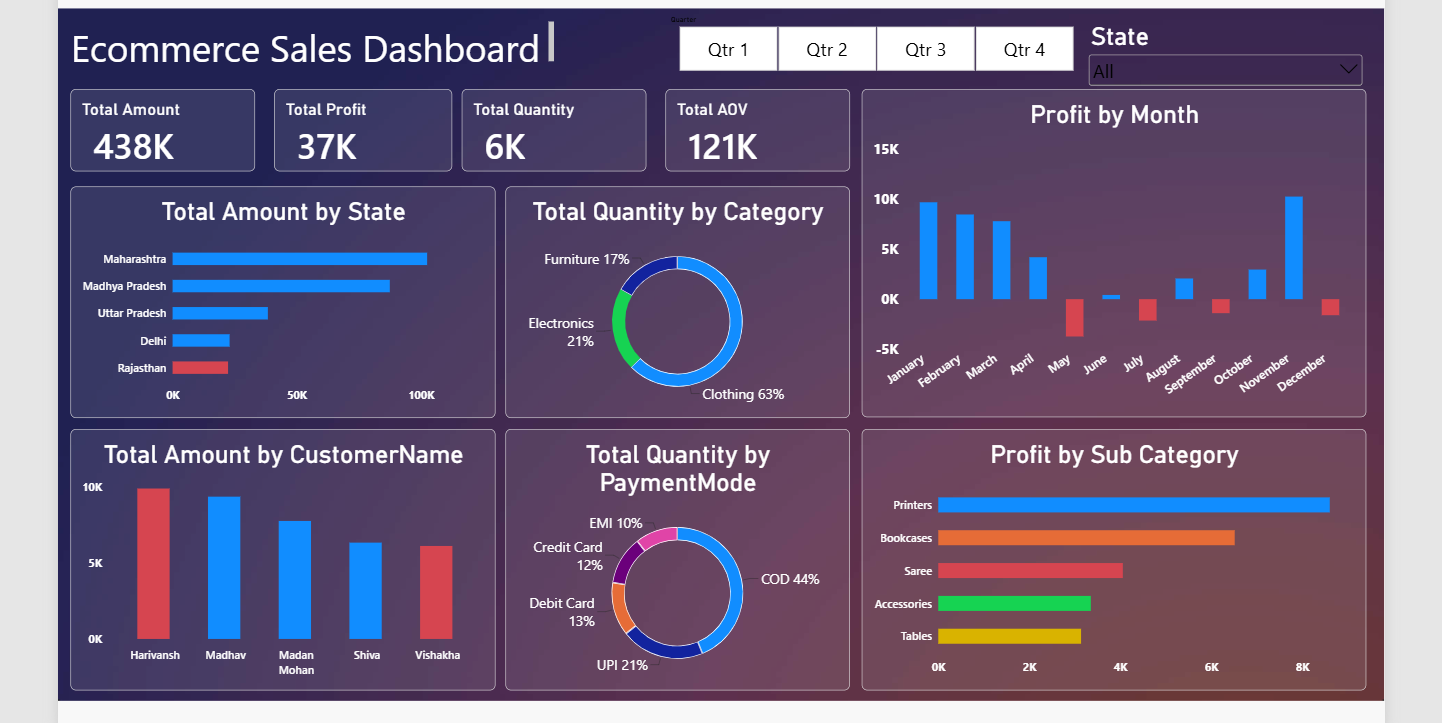

The dashboard page shown, as its layout file describes it:
{"tool":"powerbi","page":{"name":"Page 1","canvas":[1920,1080],"ordinal":0},"visuals":[{"type":"columnChart","title":" Profit by Month","fields":{"Category":["Orders.Order Date.Variation.Date Hierarchy.Month"],"Y":["Sum(Details.Profit)"]},"box":[1163,152.3,730.7,475.5],"z":0},{"type":"textbox","box":[18.5,53.5,699.8,63.8],"z":1000},{"type":"barChart","title":" Profit by Sub Category","fields":{"Category":["Details.Sub-Category"],"Y":["Sum(Details.Profit)"]},"box":[1163,644.3,730.7,378.7],"z":2000},{"type":"donutChart","title":"Total Quantity by Category","fields":{"Category":["Details.Category"],"Y":["Sum(Details.Quantity)"]},"box":[648.4,292.3,498.1,335.5],"z":3000},{"type":"donutChart","title":"Total Quantity by PaymentMode","fields":{"Category":["Details.PaymentMode"],"Y":["Sum(Details.Quantity)"]},"box":[648.4,644.3,498.1,378.7],"z":4000},{"type":"cardVisual","title":"Total Amount","fields":{"Data":["Sum(Details.Amount)"]},"box":[18.5,152.3,267.6,119.4],"z":5000},{"type":"cardVisual","title":"Total Profit","fields":{"Data":["Sum(Details.Profit)"]},"box":[312.9,152.3,257.3,119.4],"z":6000},{"type":"cardVisual","title":"Total Quantity","fields":{"Data":["Sum(Details.Quantity)"]},"box":[584.6,152.3,267,119.4],"z":7000},{"type":"cardVisual","title":"Total AOV","fields":{"Data":["Sum(Details.AOV)"]},"box":[878.9,152.3,267,119.4],"z":8000},{"type":"barChart","title":"Total Amount by State","fields":{"Category":["Orders.State"],"Y":["Sum(Details.Amount)"]},"box":[18.5,292.3,615.4,335.5],"z":9000},{"type":"columnChart","title":"Total Amount by CustomerName","fields":{"Category":["Orders.CustomerName"],"Y":["Sum(Details.Amount)"]},"box":[18.5,644.3,615.4,378.7],"z":10000},{"type":"slicer","fields":{"Values":["Orders.Order Date.Variation.Date Hierarchy.Quarter"]},"box":[878.9,45.3,609.3,82.3],"z":11000},{"type":"slicer","fields":{"Values":["Orders.State"]},"box":[1488.2,53.5,405.5,98.8],"z":12000}]}

Visuals, with their boxes in screenshot pixels (x1, y1, x2, y2):
" Profit by Month" columnChart: detection(865, 78, 1385, 417)
textbox: detection(51, 8, 548, 53)
" Profit by Sub Category" barChart: detection(865, 428, 1385, 698)
"Total Quantity by Category" donutChart: detection(499, 178, 853, 417)
"Total Quantity by PaymentMode" donutChart: detection(499, 428, 853, 698)
"Total Amount" cardVisual: detection(51, 78, 241, 163)
"Total Profit" cardVisual: detection(260, 78, 443, 163)
"Total Quantity" cardVisual: detection(453, 78, 643, 163)
"Total AOV" cardVisual: detection(663, 78, 853, 163)
"Total Amount by State" barChart: detection(51, 178, 488, 417)
"Total Amount by CustomerName" columnChart: detection(51, 428, 488, 698)
slicer - Orders.Order Date.Variation.Date Hierarchy.Quarter: detection(663, 2, 1096, 61)
slicer - Orders.State: detection(1096, 8, 1385, 78)
